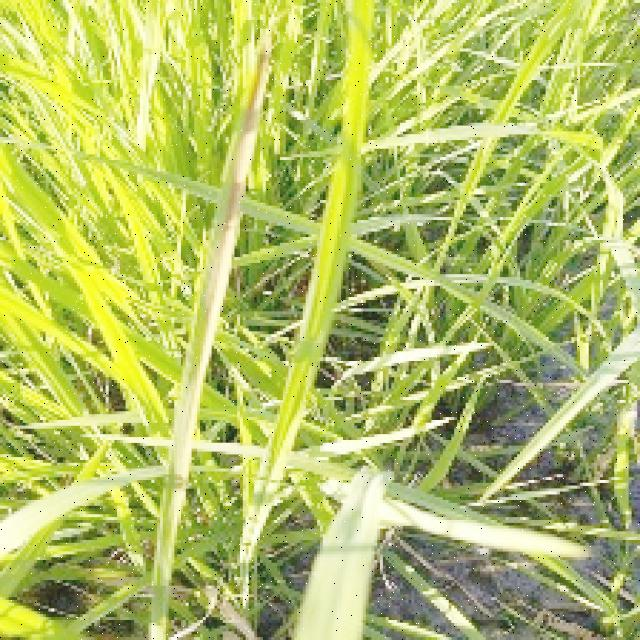health: (288, 1, 637, 376), (0, 0, 91, 371)
